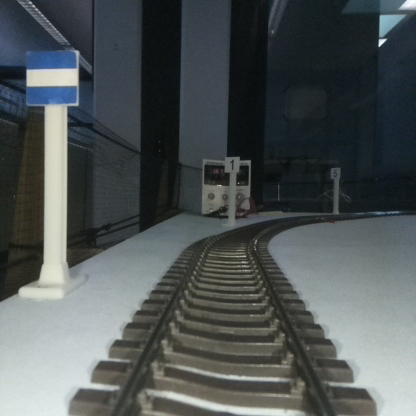white-info-1: (225, 156, 239, 224)
